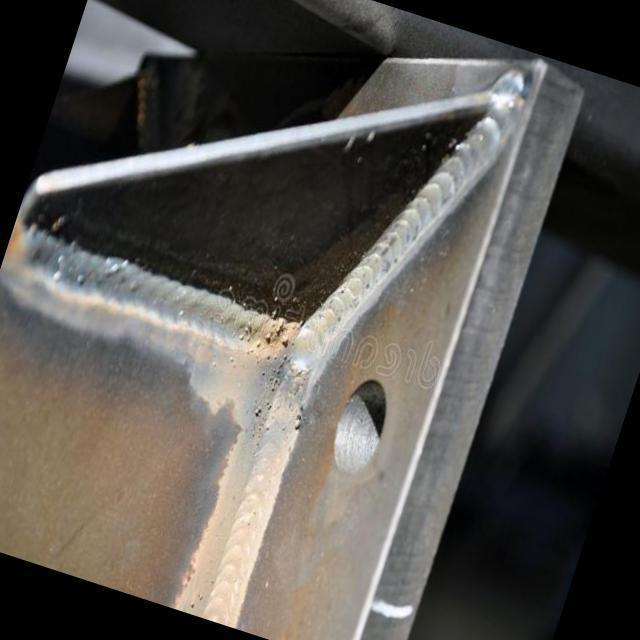defect: (224, 320, 293, 394), (289, 398, 306, 440), (251, 399, 275, 419)
